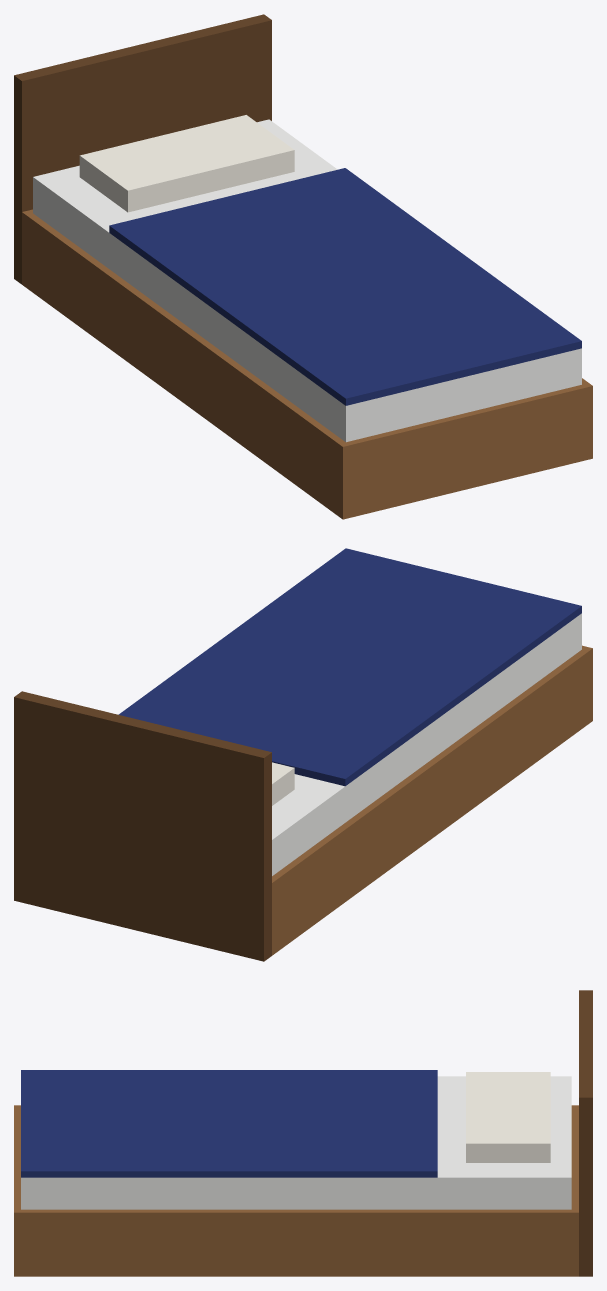
File: bed.glb
The picture shows the model from 3 angles, top to bottom: view 1: azimuth 30°, elevation 25°; view 2: azimuth 150°, elevation 25°; view 3: azimuth 270°, elevation 25°; orthographic projection. The views are drawn at different scales.
Parts seen in each view (by area): view 1: bed; view 2: bed; view 3: bed.
Boxes of the visible parts, left/top/right/bottom form: bed: left=14, top=14, right=592, bottom=519; bed: left=14, top=548, right=592, bottom=961; bed: left=14, top=990, right=592, bottom=1276.
Size of the model in its own units: 0.9 by 0.7 by 2.05.
Materials: 1 (1 with a texture image).
